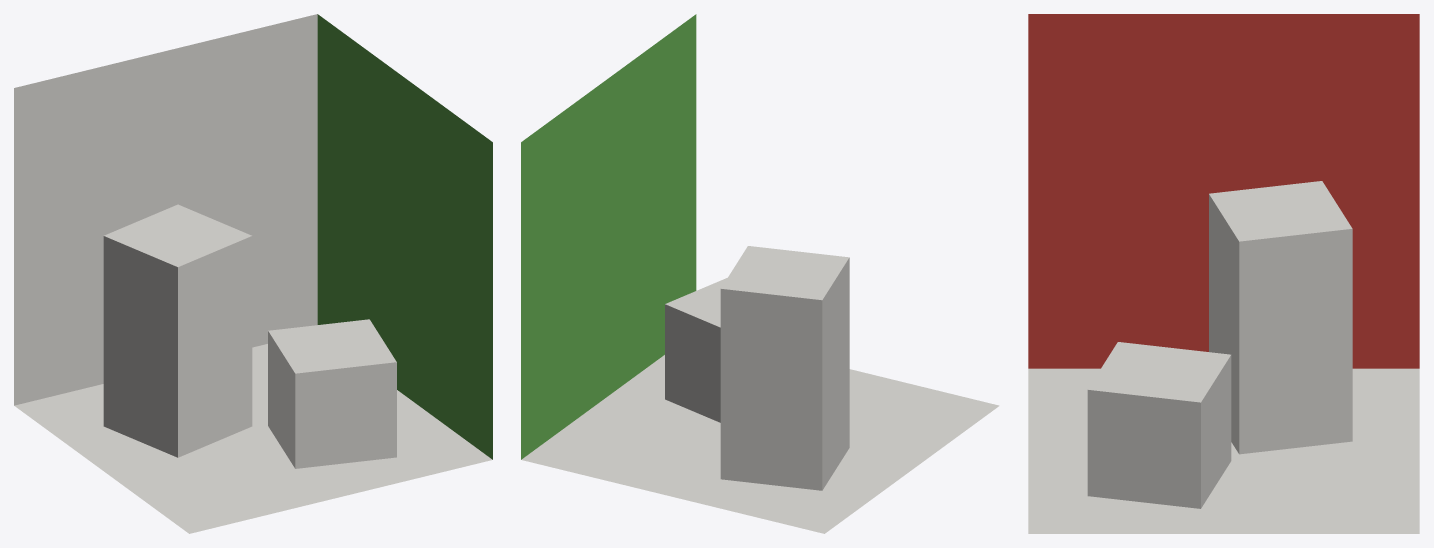
File: cornell_box.gltf
3 renders of one model, left to right at view 1: azimuth 30°, elevation 25°; view 2: azimuth 150°, elevation 25°; view 3: azimuth 270°, elevation 25°, orthographic. The views are drawn at different scales.
Visible parts, largest first — view 1: cb_back, cb_left, cb_tallbox, cb_floor, cb_shortbox; view 2: cb_left, cb_floor, cb_tallbox, cb_shortbox; view 3: cb_right, cb_floor, cb_tallbox, cb_shortbox.
Boxes of the visible parts, x1,y1,x2,y2 form: cb_back: [14, 14, 317, 405]; cb_left: [317, 14, 492, 459]; cb_tallbox: [103, 204, 252, 457]; cb_floor: [14, 344, 492, 533]; cb_shortbox: [268, 319, 396, 468]; cb_left: [521, 14, 696, 459]; cb_floor: [521, 355, 999, 533]; cb_tallbox: [720, 246, 849, 490]; cb_shortbox: [665, 278, 727, 422]; cb_right: [1028, 14, 1419, 368]; cb_floor: [1028, 368, 1419, 533]; cb_tallbox: [1209, 181, 1352, 454]; cb_shortbox: [1087, 342, 1231, 508].
Size of the model in its own units: 2 by 2 by 2.
